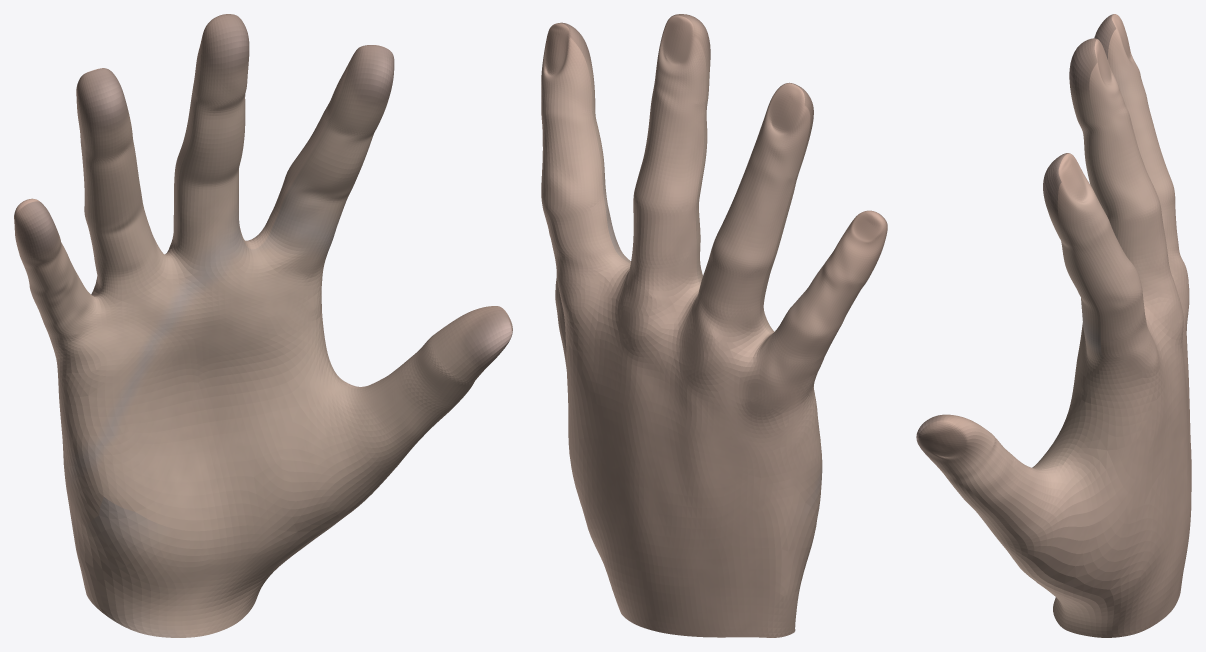
File: Main_Ouverte.glb
3 renders of one model, left to right at view 1: azimuth 30°, elevation 25°; view 2: azimuth 150°, elevation 25°; view 3: azimuth 270°, elevation 25°, orthographic. The views are drawn at different scales.
Parts seen in each view (by area): view 1: Main_Ouverte.glb; view 2: Main_Ouverte.glb; view 3: Main_Ouverte.glb.
Part boxes in pixels (bbox=[...]): Main_Ouverte.glb: bbox=[14, 14, 512, 637]; Main_Ouverte.glb: bbox=[541, 14, 887, 637]; Main_Ouverte.glb: bbox=[916, 14, 1191, 637].
Bounding box in the file's own units: 0.1247 × 0.1741 × 0.0737.
1 material, 1 textured.
